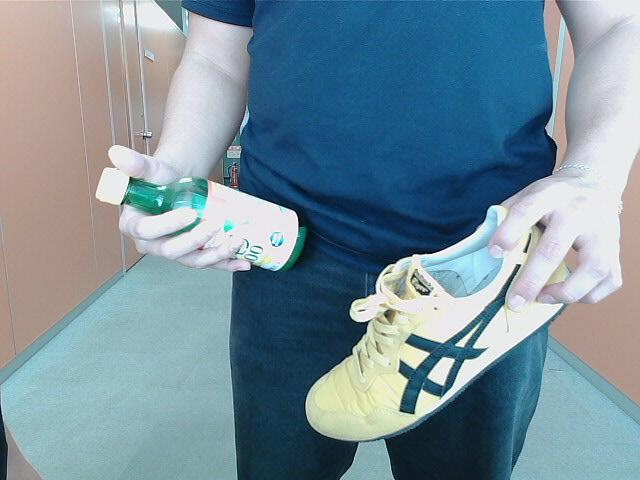Lemon_sapporo: (93, 165, 313, 296)
Shoes: (306, 208, 576, 446)
